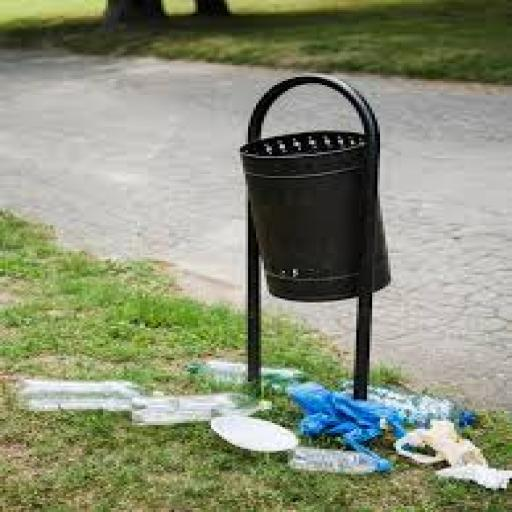poubelle_vide: (184, 68, 428, 404)
